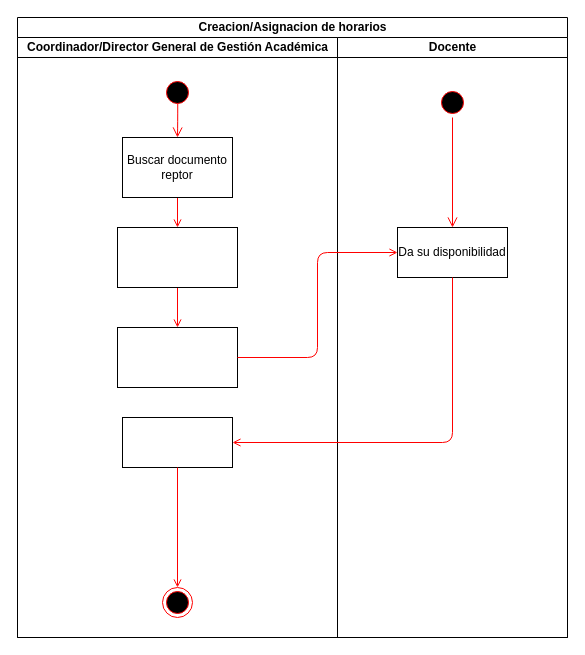
Image size: 585x655. Some labels were removed from this diagram. The centre of each missing label's shape, as x and y in pixels:
Buscar lista de porfesores en funcion de area de conocimiento: the point at 177,357
Buscar sinopticos de los trayectos: the point at 177,257
Se crea el horario: the point at 177,442
